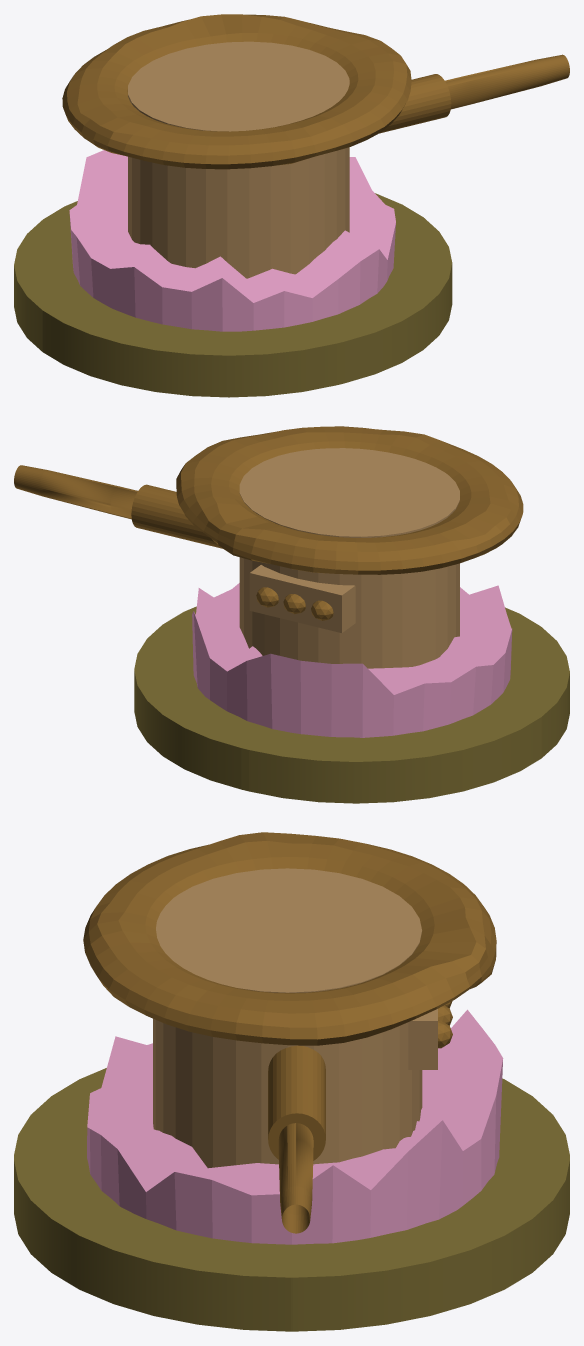
Rendered from turret.fbx.
The picture shows the model from 3 angles, top to bottom: view 1: azimuth 30°, elevation 25°; view 2: azimuth 150°, elevation 25°; view 3: azimuth 270°, elevation 25°; orthographic projection. The views are drawn at different scales.
Parts seen in each view (by area): view 1: Cube.002, Cylinder.001, Cylinder, Torus, Torus.001, Cylinder.002; view 2: Cube.002, Cylinder.001, Cylinder, Torus, Cube.001, Torus.001, Cylinder.002; view 3: Cube.002, Cylinder.001, Cylinder, Torus, Cylinder.002, Torus.001, Cube.001.
Part boxes in pixels (x1=…): Cube.002: x1=14, y1=193, x2=452, y2=397; Cylinder.001: x1=128, y1=41, x2=349, y2=278; Cylinder: x1=69, y1=150, x2=395, y2=331; Torus: x1=62, y1=14, x2=411, y2=169; Torus.001: x1=445, y1=54, x2=569, y2=109; Cylinder.002: x1=379, y1=74, x2=451, y2=133; Cube.002: x1=134, y1=606, x2=569, y2=803; Cylinder.001: x1=239, y1=448, x2=459, y2=668; Cylinder: x1=192, y1=583, x2=512, y2=737; Torus: x1=176, y1=426, x2=523, y2=574; Cube.001: x1=249, y1=565, x2=355, y2=632; Torus.001: x1=14, y1=465, x2=137, y2=519; Cylinder.002: x1=131, y1=484, x2=222, y2=548; Cube.002: x1=14, y1=1068, x2=569, y2=1331; Cylinder.001: x1=153, y1=868, x2=422, y2=1168; Cylinder: x1=87, y1=1009, x2=503, y2=1244; Torus: x1=83, y1=832, x2=496, y2=1045; Cylinder.002: x1=268, y1=1045, x2=325, y2=1160; Torus.001: x1=278, y1=1123, x2=313, y2=1233; Cube.001: x1=408, y1=1009, x2=437, y2=1069.
Size of the model in its own units: 380 by 159 by 271.
